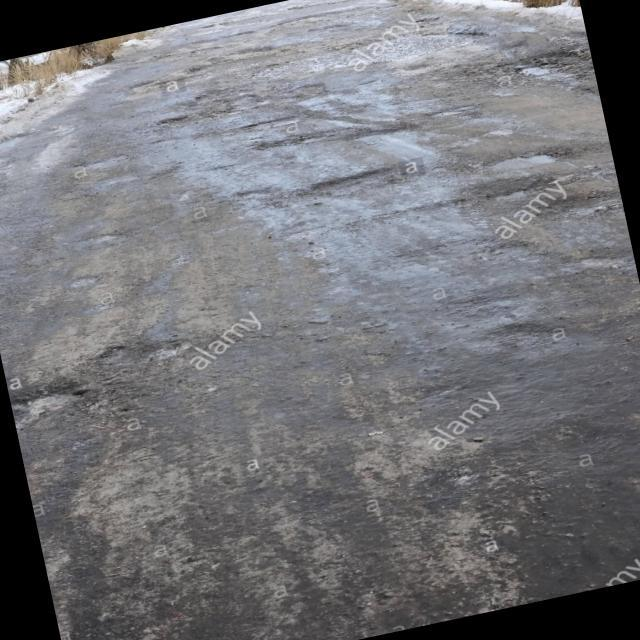Pothole: (162, 78, 280, 134), (130, 312, 214, 378), (12, 366, 98, 426), (263, 112, 371, 159), (487, 136, 581, 187), (505, 31, 593, 84), (312, 158, 398, 202), (548, 178, 622, 228)
